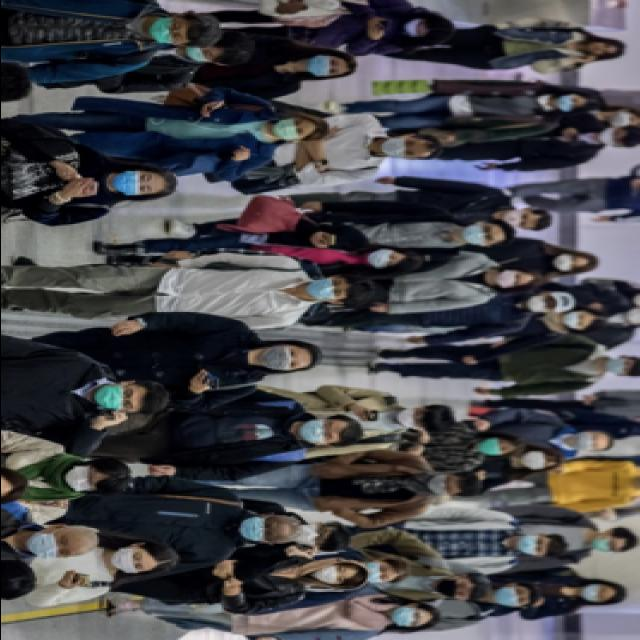mask: (94, 384, 140, 413), (26, 530, 72, 558), (110, 168, 156, 195), (238, 515, 278, 544), (151, 14, 185, 46), (110, 546, 148, 574), (64, 464, 100, 493), (259, 346, 302, 370), (271, 117, 309, 141), (305, 277, 345, 299), (379, 136, 419, 158), (302, 418, 336, 443), (436, 578, 470, 602), (461, 224, 498, 246), (182, 40, 220, 61), (292, 524, 328, 546), (364, 246, 400, 268), (307, 54, 343, 76), (391, 606, 426, 628), (493, 587, 528, 608), (312, 565, 350, 584), (520, 452, 554, 471), (362, 562, 391, 584), (403, 16, 429, 40), (429, 475, 458, 496), (503, 208, 532, 229), (518, 536, 546, 557), (525, 294, 554, 314), (496, 270, 525, 290), (396, 408, 426, 427), (479, 437, 508, 456), (568, 434, 604, 449), (606, 356, 636, 374), (554, 92, 578, 114), (554, 254, 582, 272), (582, 586, 612, 602), (599, 126, 623, 146), (608, 112, 638, 126), (566, 310, 588, 328), (594, 538, 618, 554)
no_mask: (585, 40, 616, 56)
